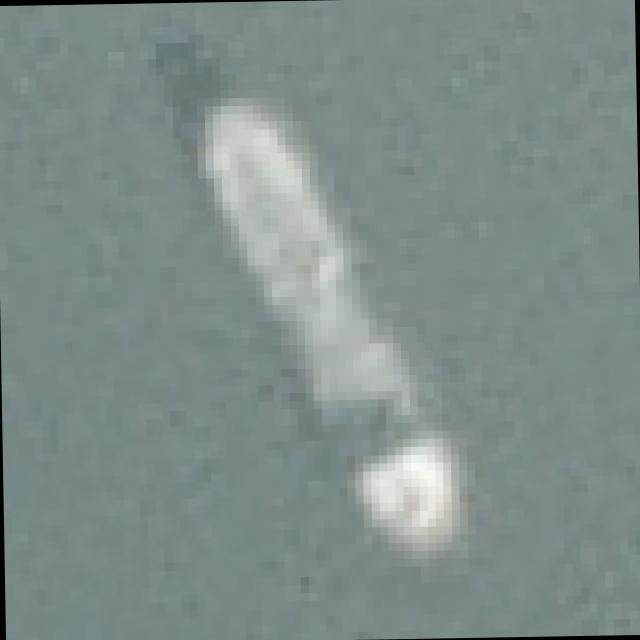ship: (147, 61, 536, 598)
